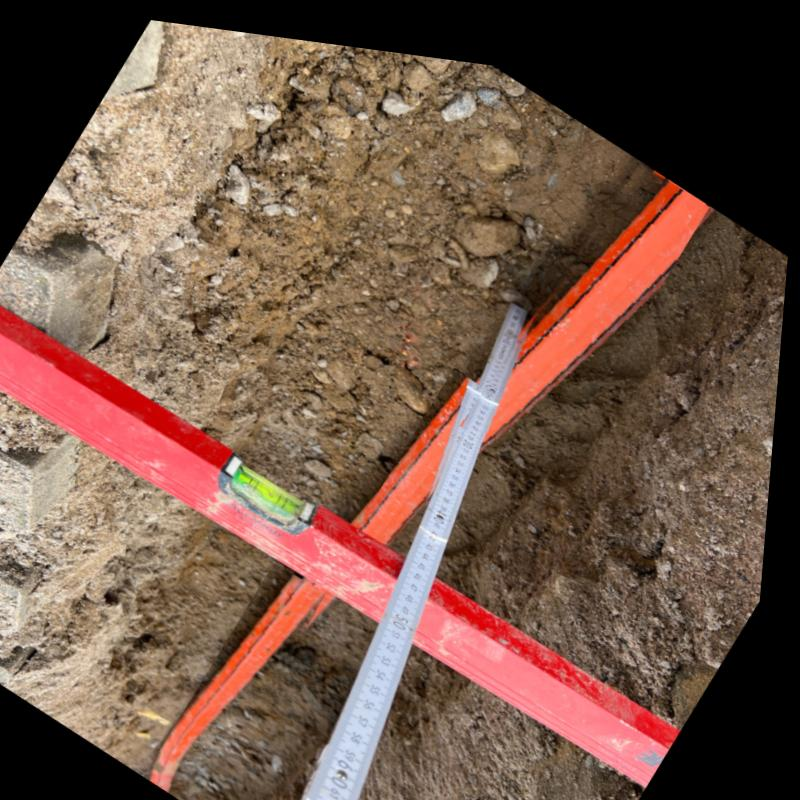Orang-Speednetrohrchen: (490, 163, 711, 427), (160, 567, 336, 786), (366, 366, 477, 530)
